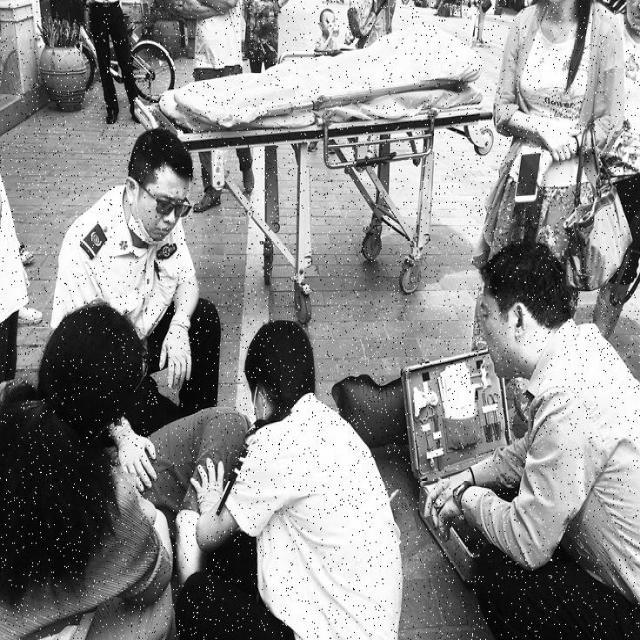fall: (32, 326, 242, 583)
